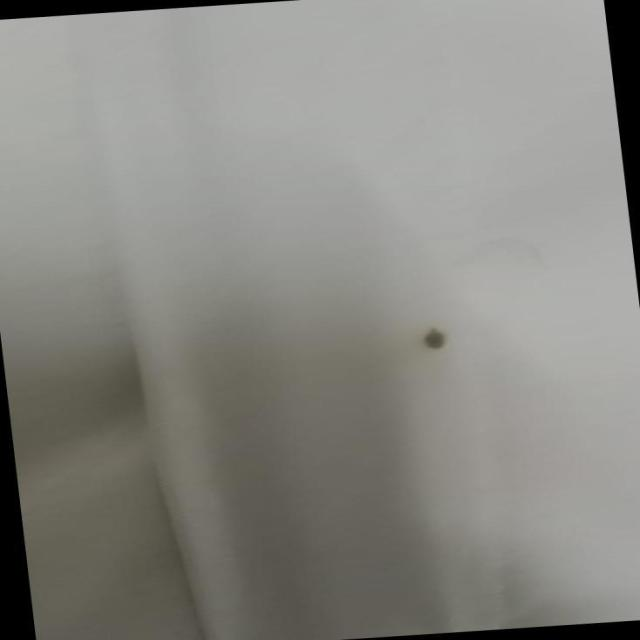stain: (404, 314, 472, 365)
